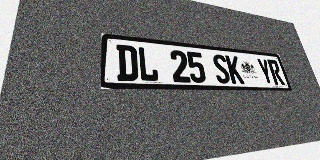2: (169, 50, 191, 83)
5: (186, 51, 207, 83)
D: (116, 44, 139, 81)
K: (225, 55, 245, 84)
L: (137, 46, 159, 82)
R: (267, 59, 285, 85)
S: (211, 54, 231, 84)
Y: (256, 58, 275, 85)
